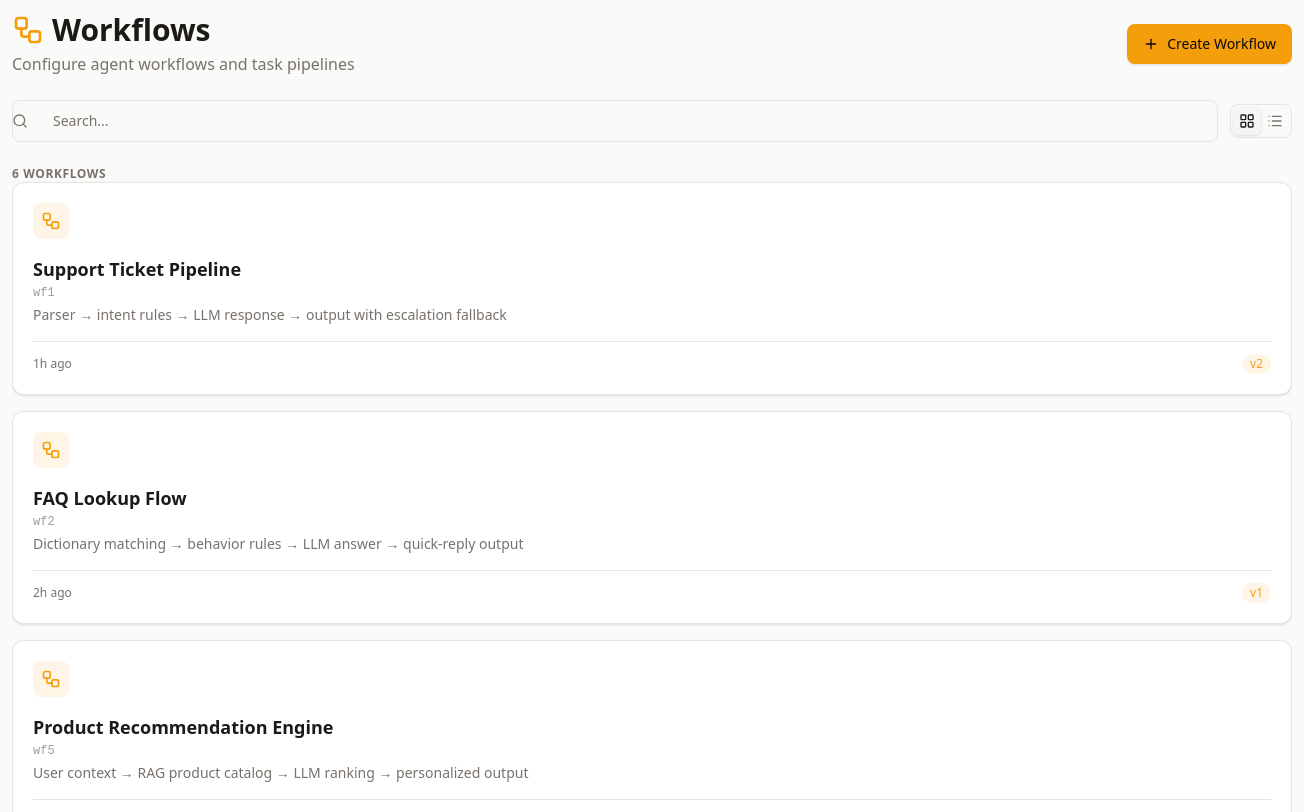
Scenario: WorkflowsPage › shows delete and duplicate buttons in list view
This screenshot has width=1304, height=812.
Click the radio button with test id "view-toggle-list".
click(1275, 121)  # box [1261,107,1289,135]
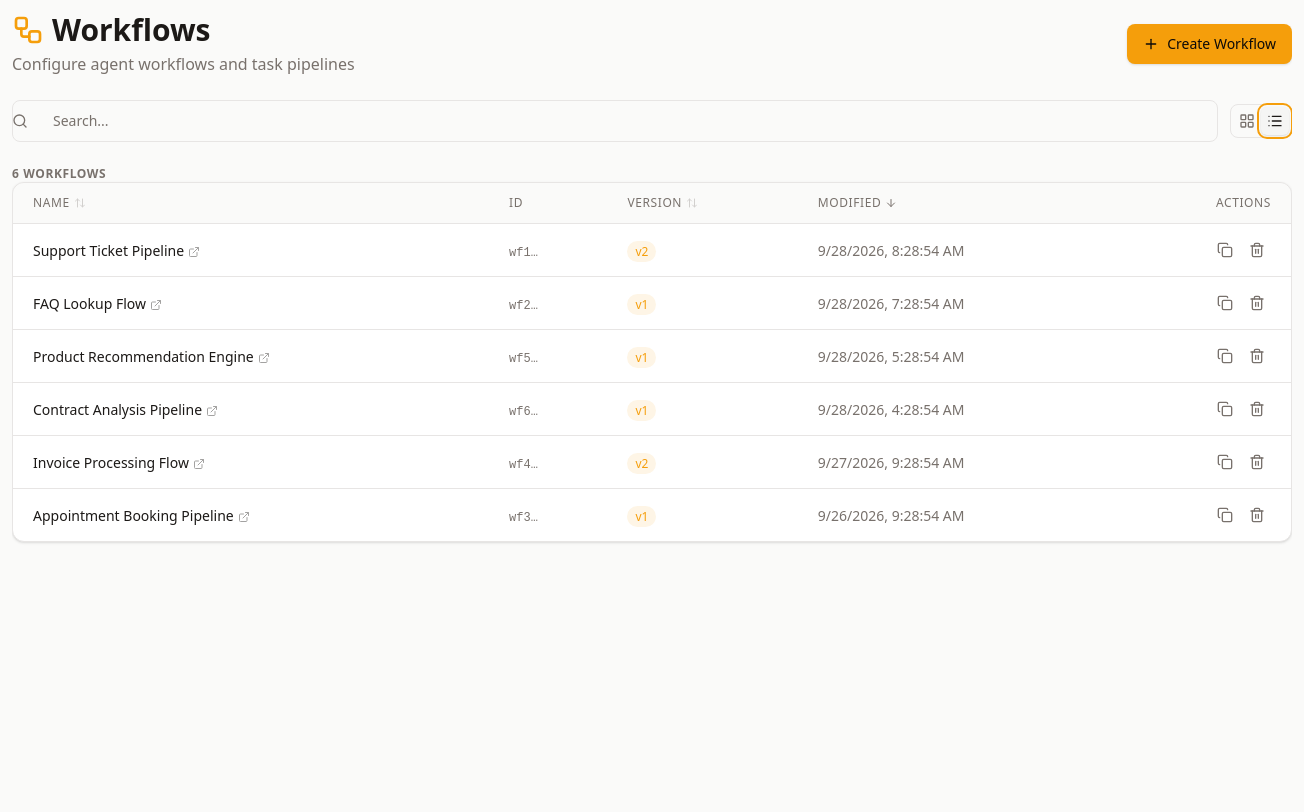
Result: the element with test id "workflow-list" is shown at [12,182,1292,542]
Result: the button titled "Delete" in the row of "Support Ticket Pipeline" is shown at [1243,236,1271,264]
Result: the button titled "Duplicate" in the row of "Support Ticket Pipeline" is shown at [1211,236,1239,264]
